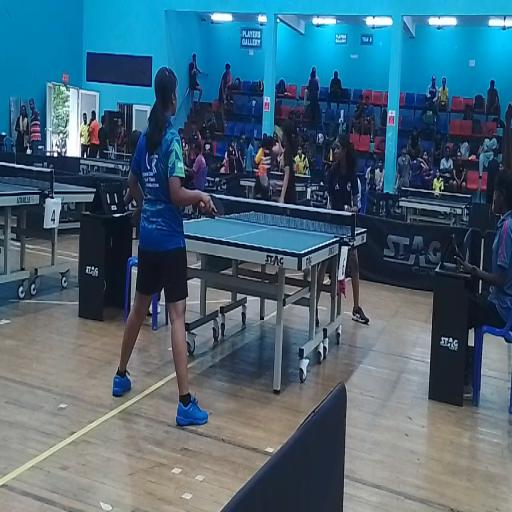ball: (344, 206, 348, 211)
